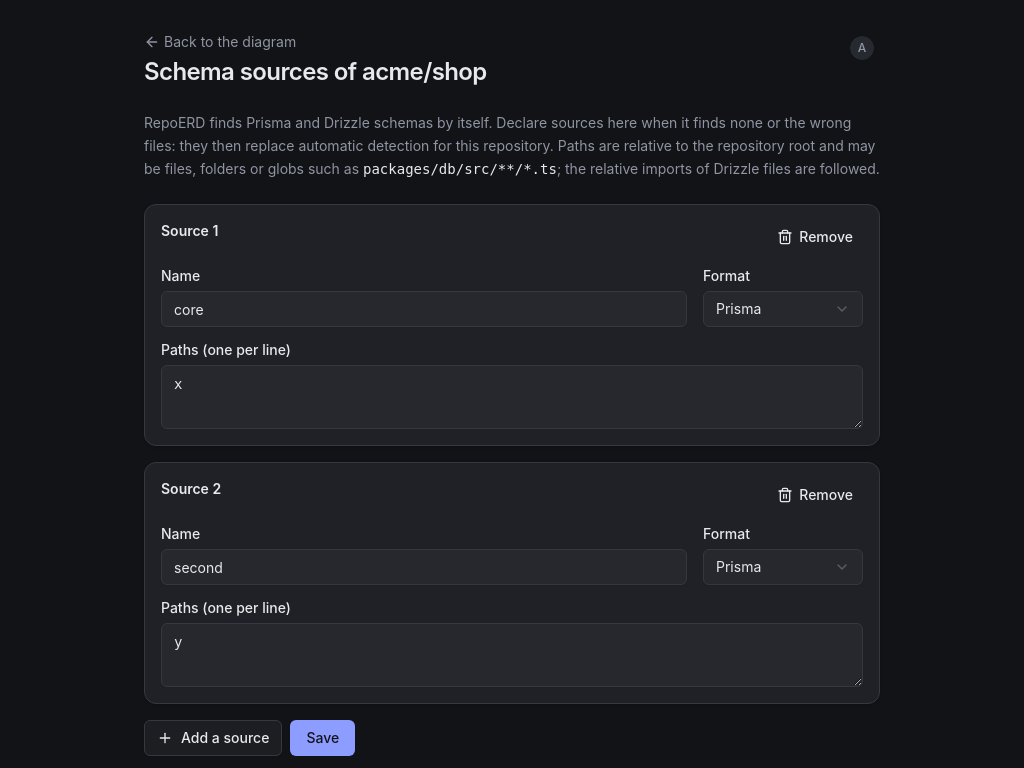
Test: RepoSettingsPage › keeps an independent format for each source
Step 1. Click the dropdown named "Format" → (783,567), box top-left (703, 549), bottom-right (863, 585)
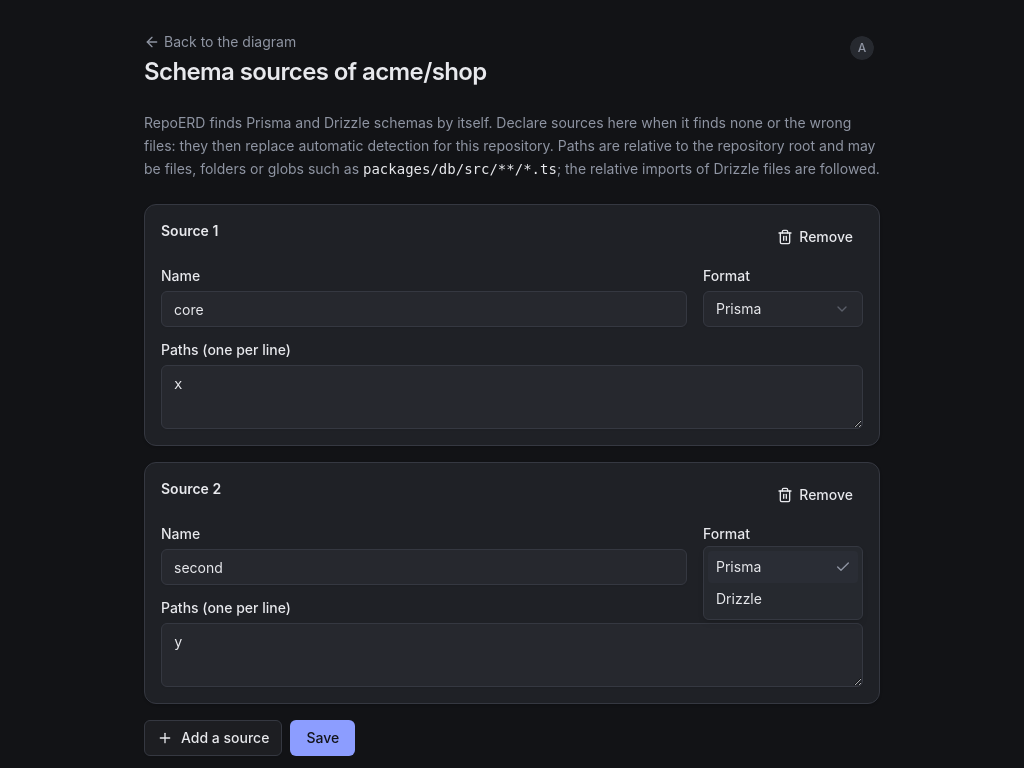
Step 2. Click the option "Drizzle" → (739,599), box top-left (716, 590), bottom-right (762, 607)
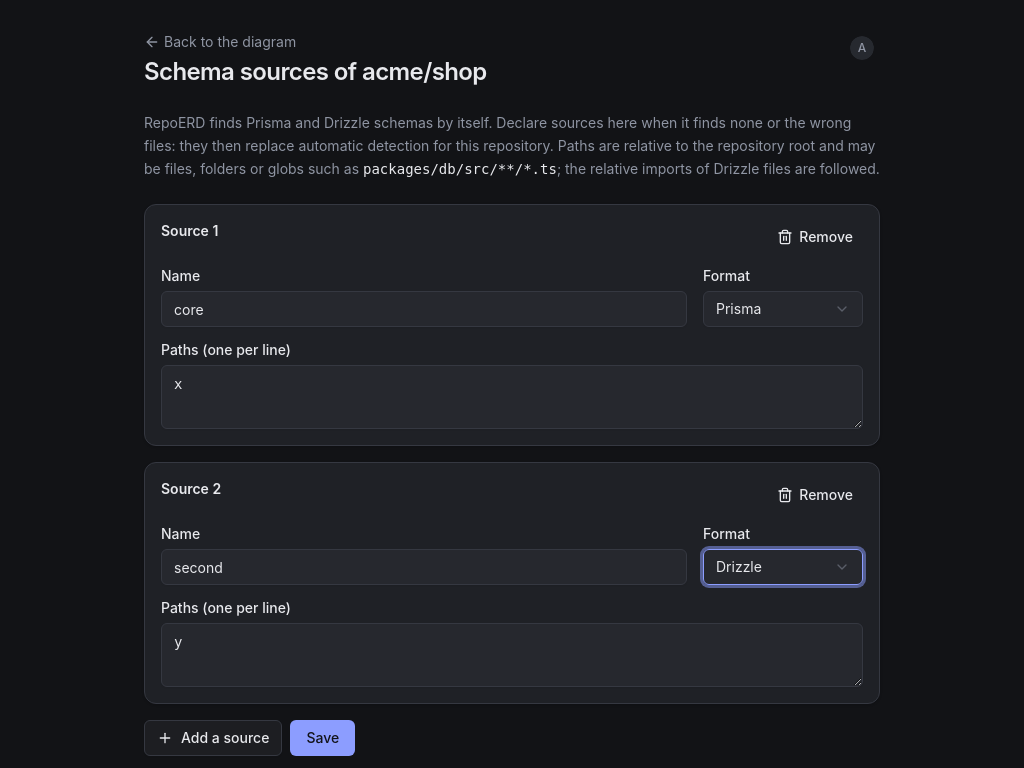
expect the dropdown named "Format" reads "Prisma": met, box top-left (703, 291), bottom-right (863, 327)
expect the dropdown named "Format" reads "Drizzle": met, box top-left (703, 549), bottom-right (863, 585)
Step 3. Click the button "Save" → (323,738), box top-left (290, 720), bottom-right (355, 756)
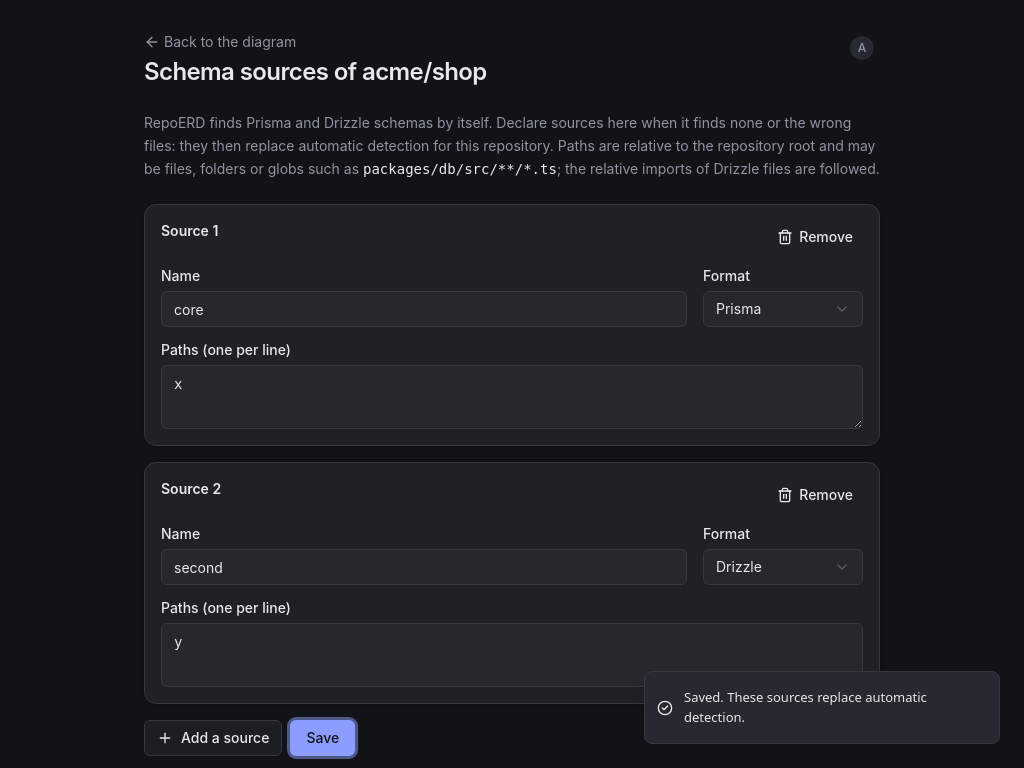
expect the text "Saved. These sources replace automatic detection." is shown: met, box top-left (684, 688), bottom-right (927, 726)
